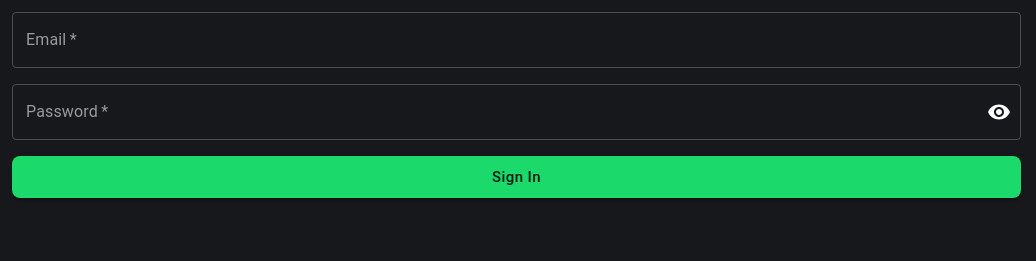
LoginForm › should show validation error for invalid email format
In the field labelled "Email *": (516, 40) [12,12,1021,68], type "invalid-email"
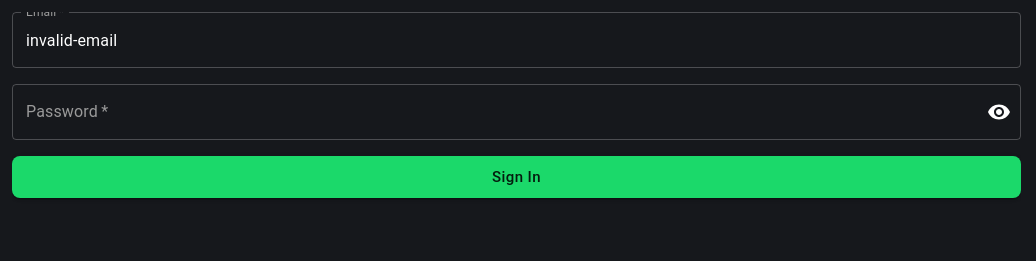
Submit the form "Email * Password * Sign In"
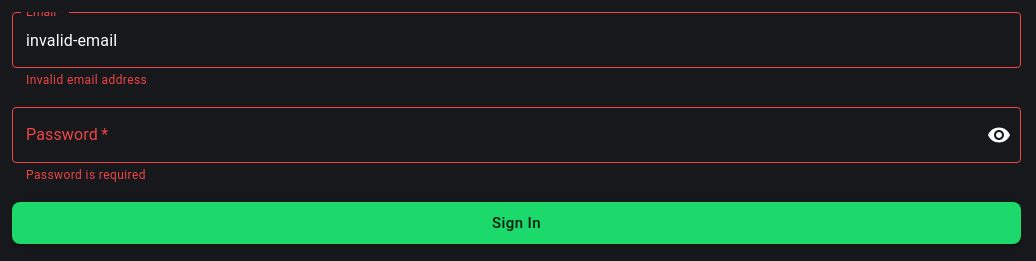
Expected: the text "Invalid email address" is shown, [26,73,147,87]
